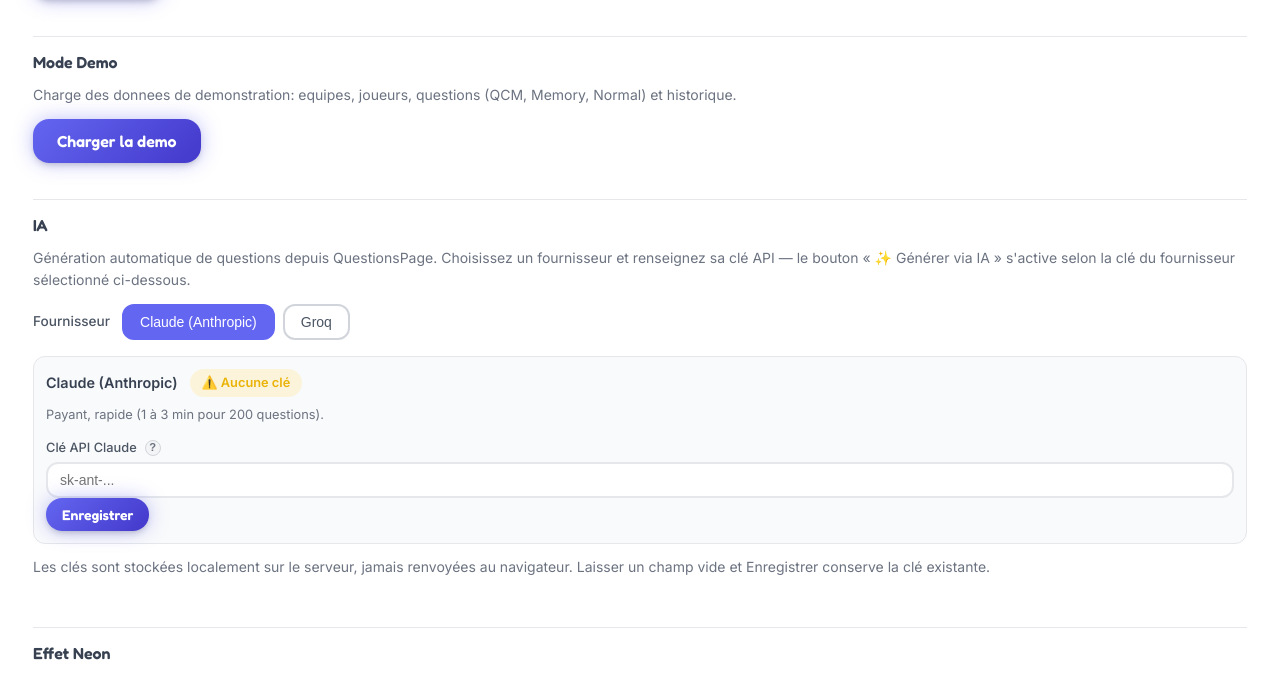
Test: ConfigPage — Sélecteur de fournisseur IA, sélection manuelle uniquement (bugfix/config-api-key-help, commit 1d5de9f) › clicking "Groq" switches the visible card to Groq and persists the choice via POST /config.json
The image size is (1280, 677).
(page scrolled)
Check: the text "Clé API Claude" is shown, box [46,440,137,455]
Click the button "Groq" at point(316, 322), box [283,304,350,340]
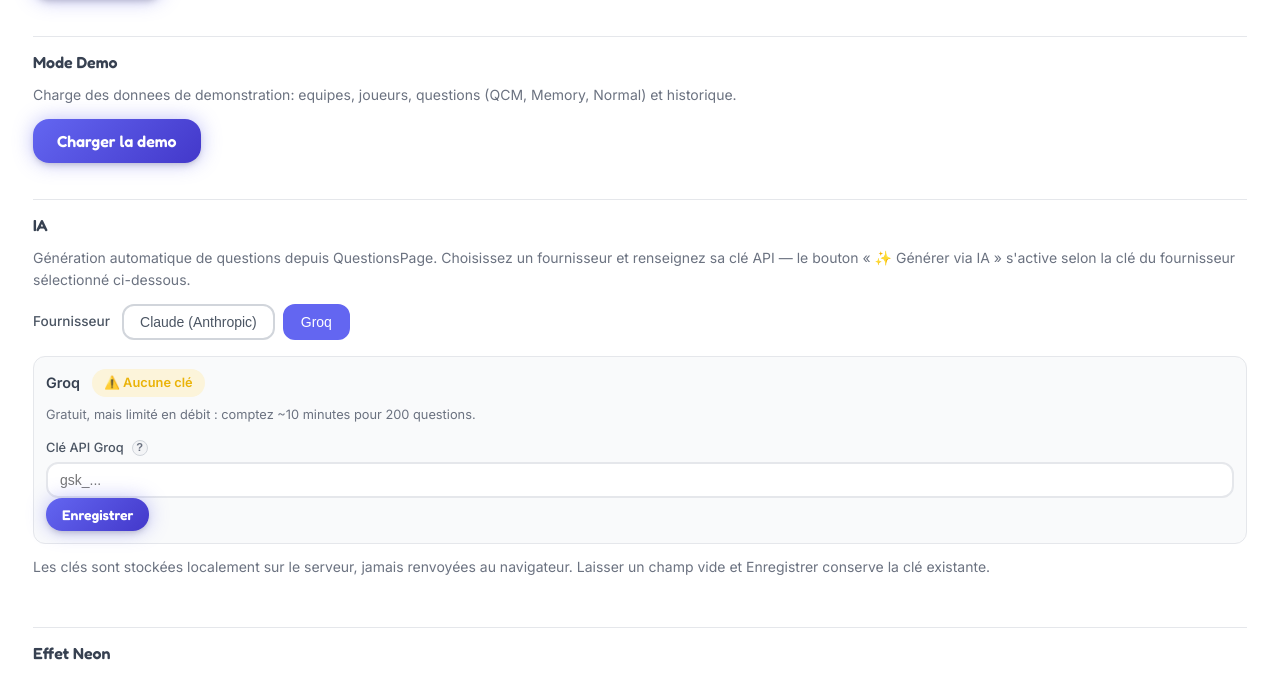
Check: the text "Clé API Groq" is shown, box [46,440,124,455]
Check: the text "Clé API Claude" is gone
